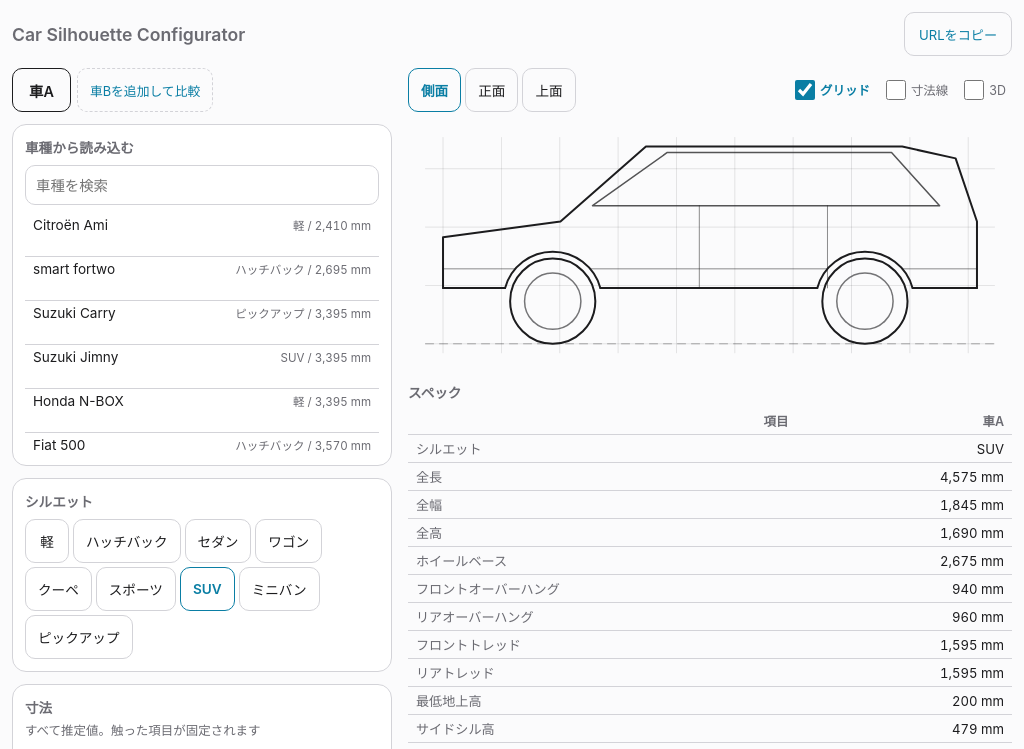
Test: App 2台比較 › 車Bを追加すると比較の操作と差分列が出る
Click the button "車Bを追加して比較": {"x": 145, "y": 90} [77,68,213,112]
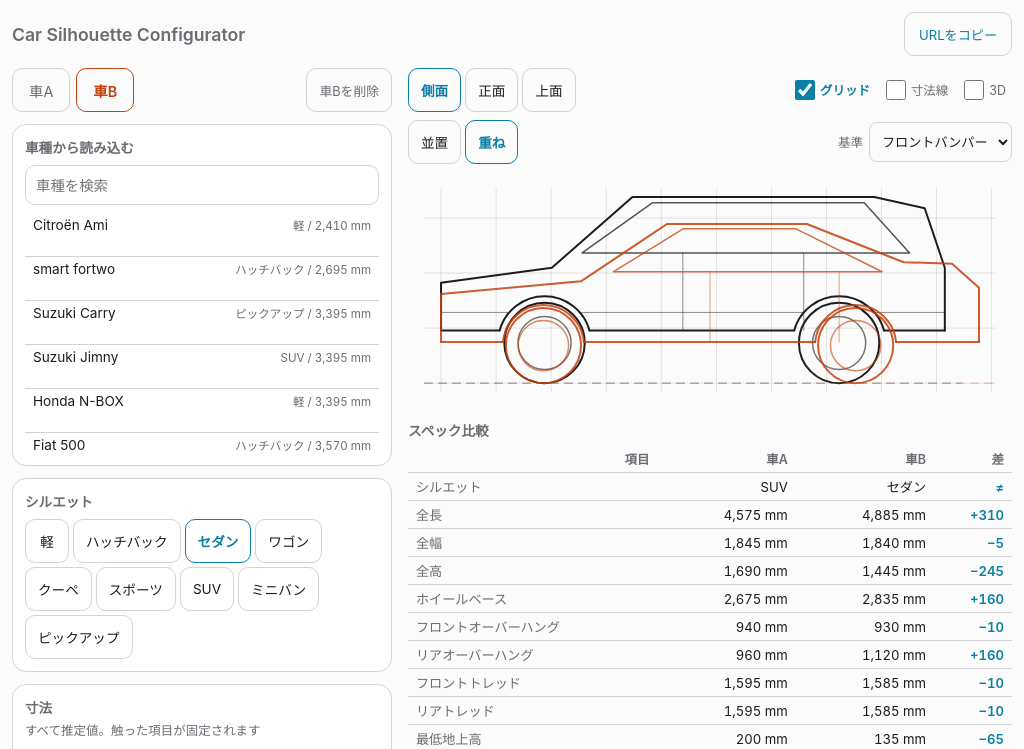
Expected: the button "車B" is shown, [76,68,134,112]
Expected: the element named "比較の表示" is shown, [408,120,518,164]
Expected: the column heading "差" is shown, [934,446,1012,473]
